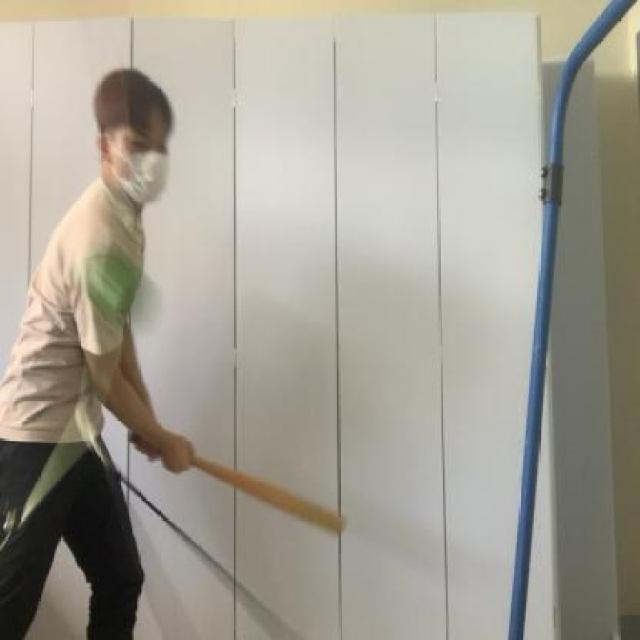baseball: (78, 236, 168, 336)
